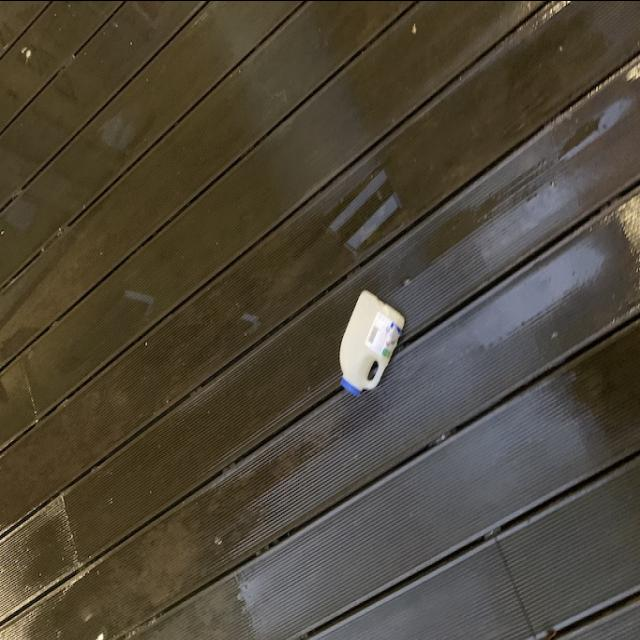HDPEM: (338, 289, 409, 395)
